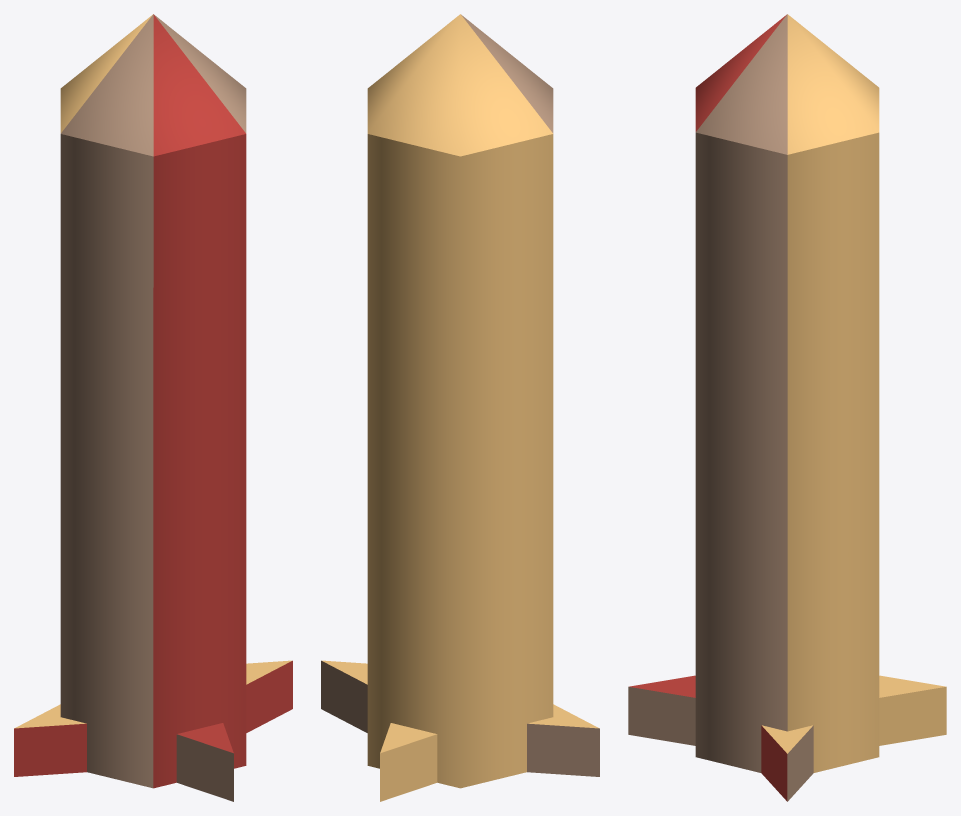
File: Solo.MissileMesh.RedFire.glb
The picture shows the model from 3 angles, left to right: view 1: azimuth 30°, elevation 25°; view 2: azimuth 150°, elevation 25°; view 3: azimuth 270°, elevation 25°; orthographic projection.
Parts seen in each view (by area): view 1: Solo.MissileMesh.RedFire; view 2: Solo.MissileMesh.RedFire; view 3: Solo.MissileMesh.RedFire.
Part boxes in pixels (x1=…): Solo.MissileMesh.RedFire: x1=14, y1=14, x2=292, y2=801; Solo.MissileMesh.RedFire: x1=321, y1=14, x2=599, y2=801; Solo.MissileMesh.RedFire: x1=628, y1=14, x2=946, y2=801.
Bounding box in the file's own units: 0.6 × 1.5 × 0.6.
1 material, 1 textured.
